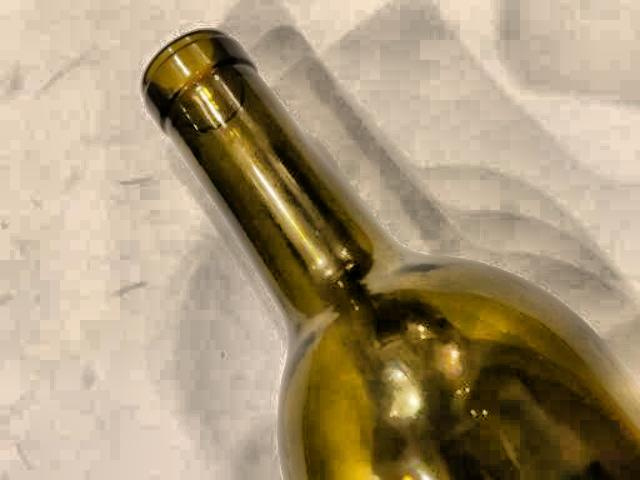Bottles: (134, 9, 640, 480)
